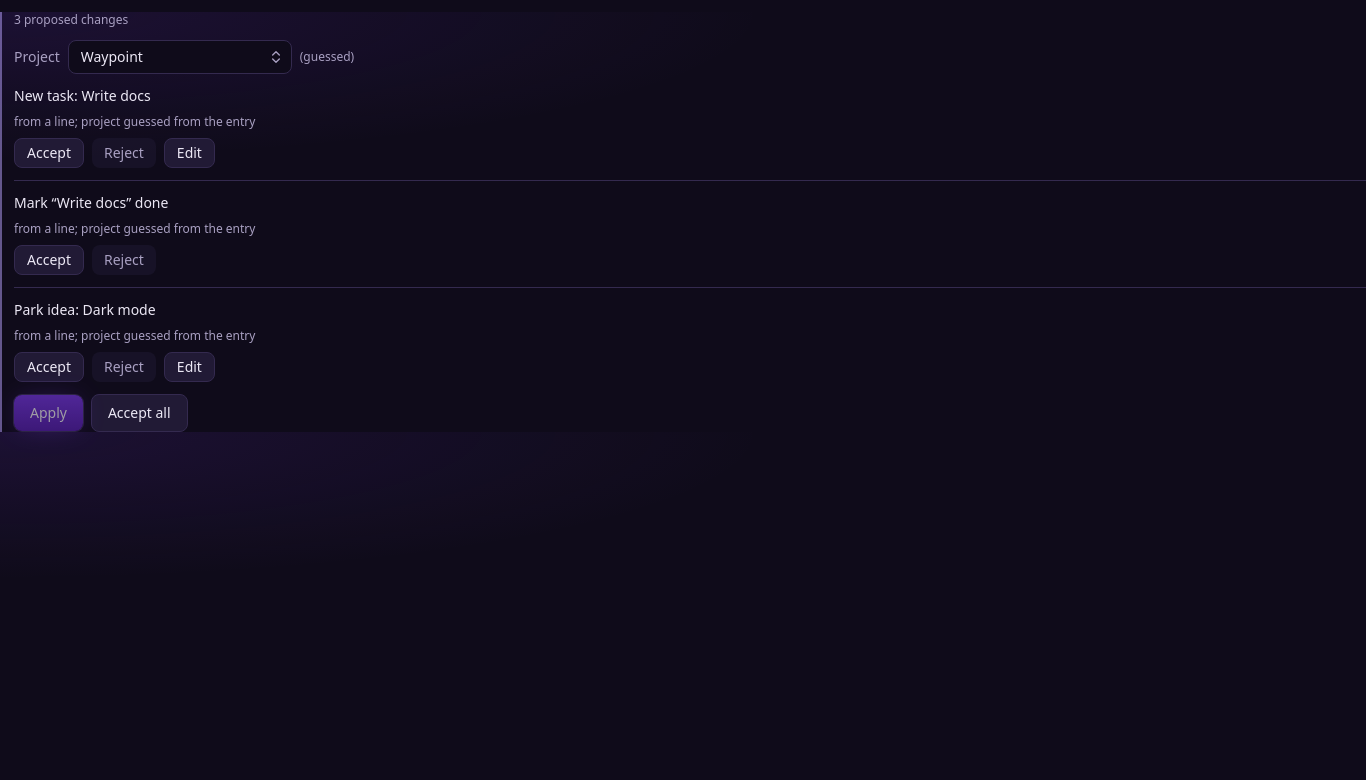
Test: ChangesetReview › with no project, tasks and blockers can't be accepted
The image size is (1366, 780).
Click the dropdown labelled "Project". click: (180, 57)
box: [68,40,292,74]
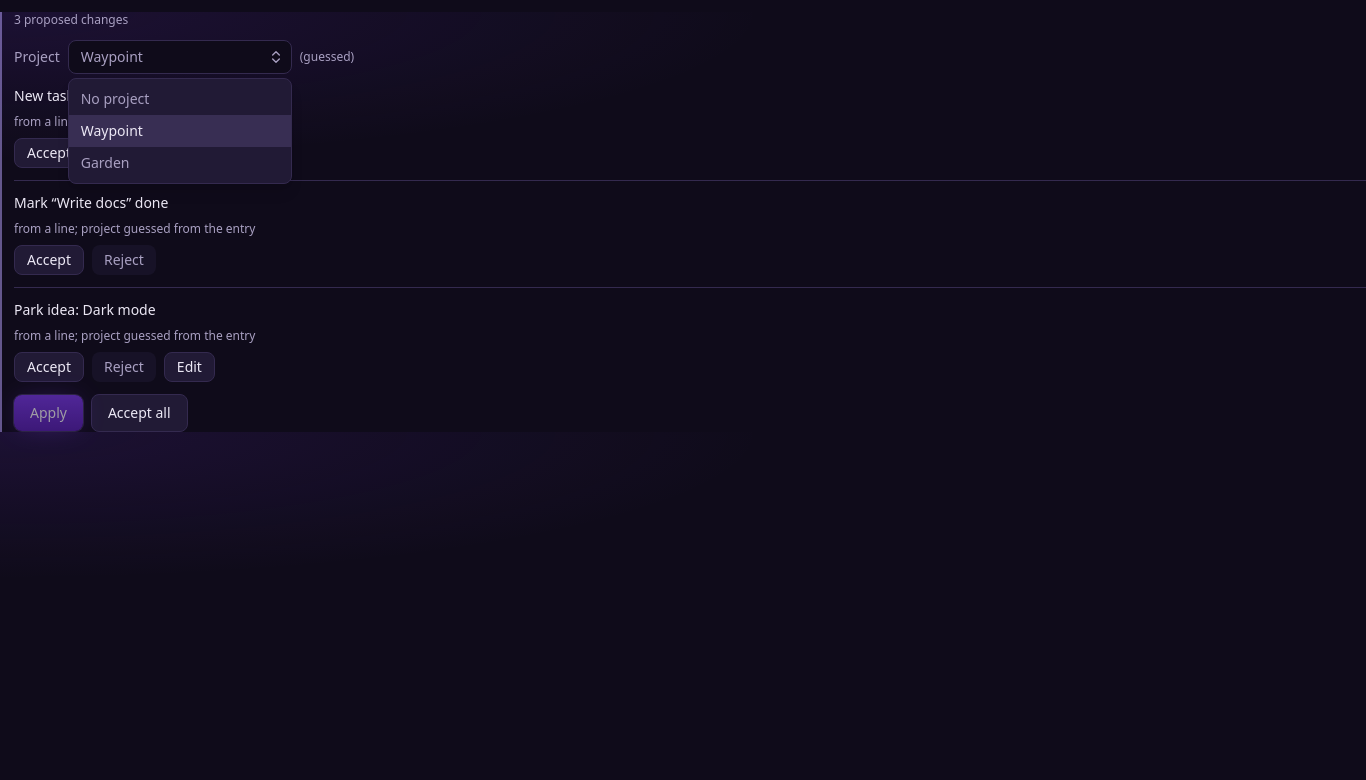
Click the option "No project". click: (115, 98)
box: [81,89,149,108]
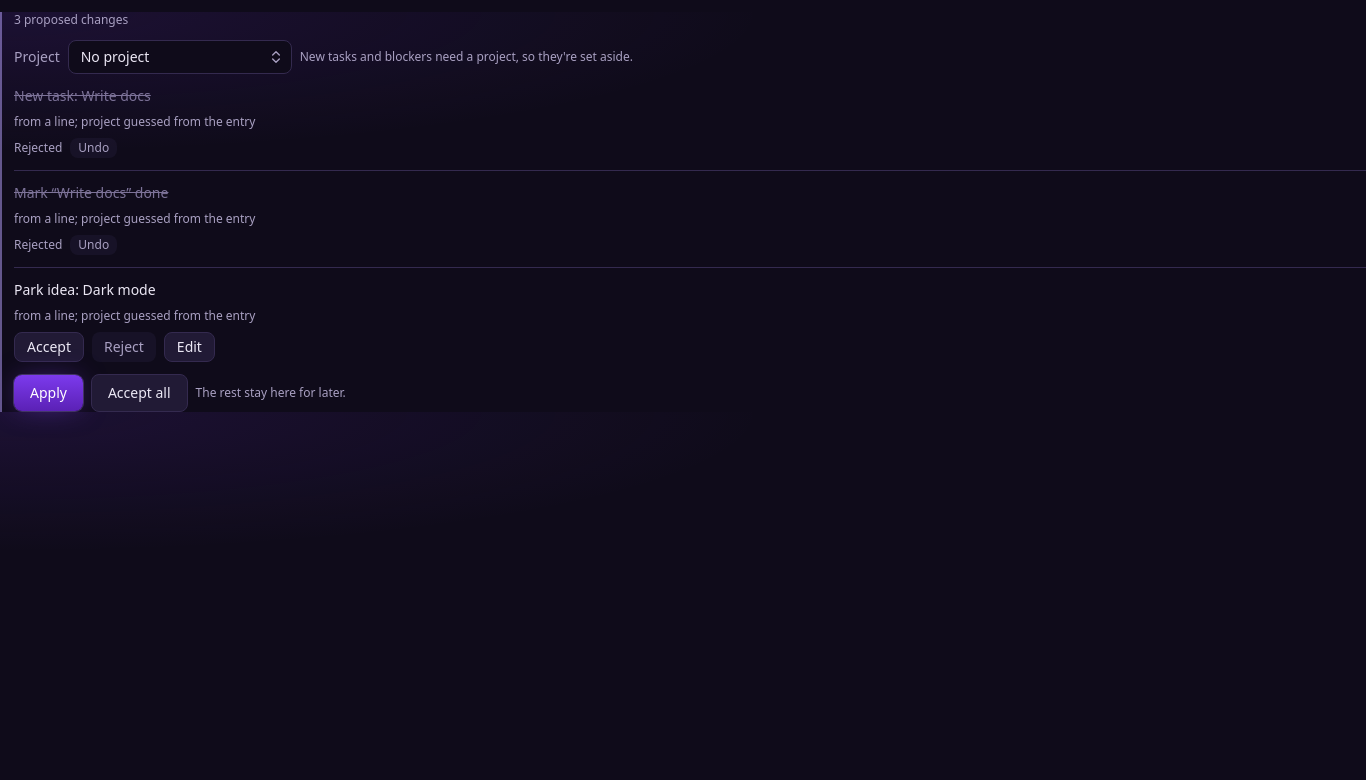
Click the button "Undo" below "New task: Write docs". click: (94, 148)
box: [70,138,117,158]
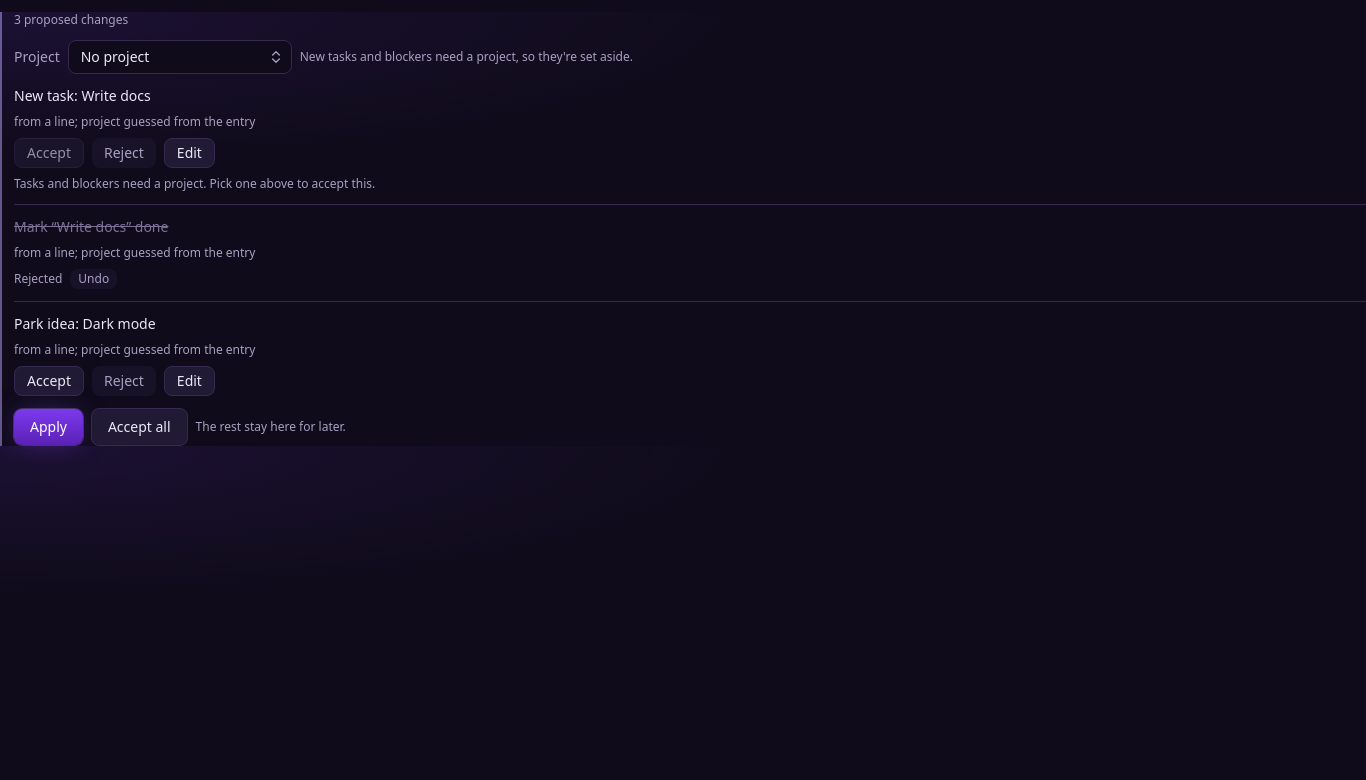
Now the button "Accept" below "New task: Write docs" is disabled, box [14,138,84,168]
Now the list item that starts with "New task: Write docs" shows "need a project", box [14,175,375,192]
